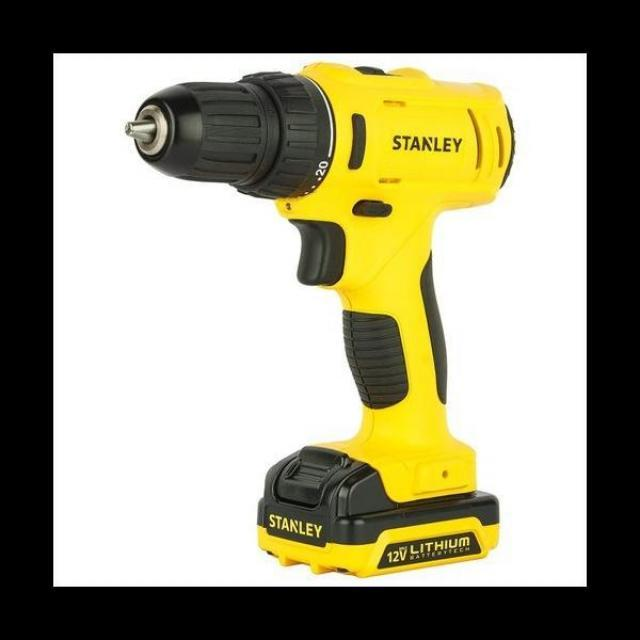drill: (123, 61, 518, 580)
